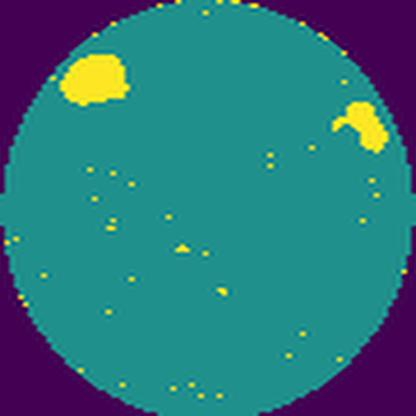Loc: (61, 49, 135, 106), (328, 98, 393, 153)
